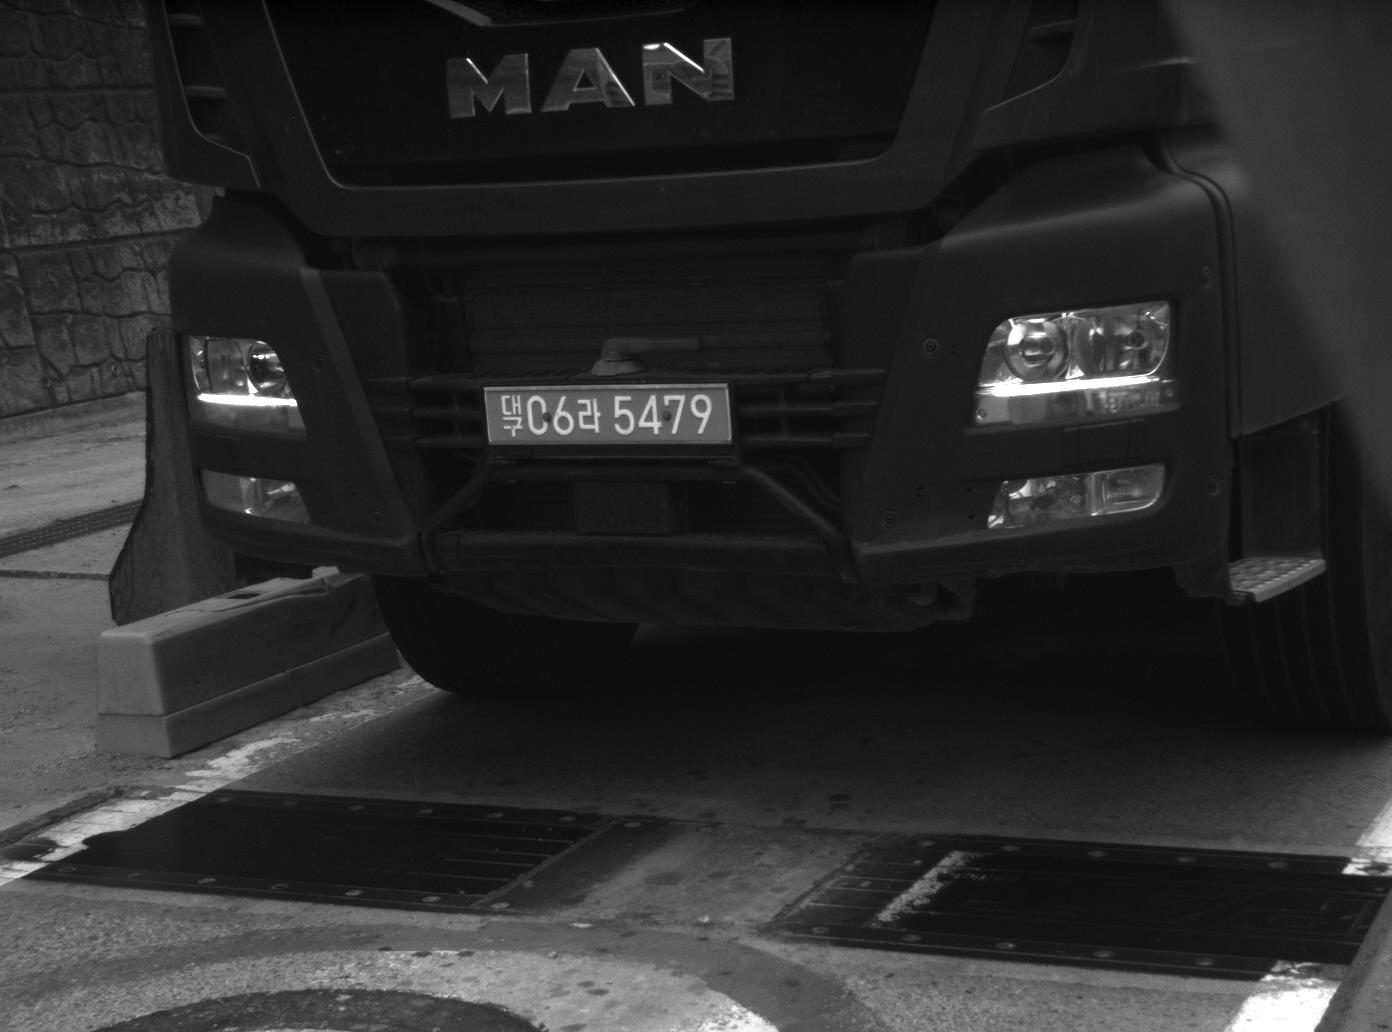car: (135, 1, 1392, 740)
plate: (477, 380, 735, 449)
